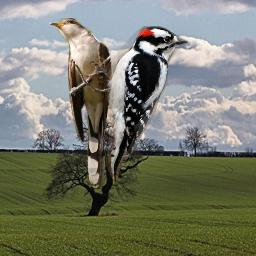Cuckoo: (49, 18, 113, 189)
Woodpecker: (84, 26, 188, 182)
